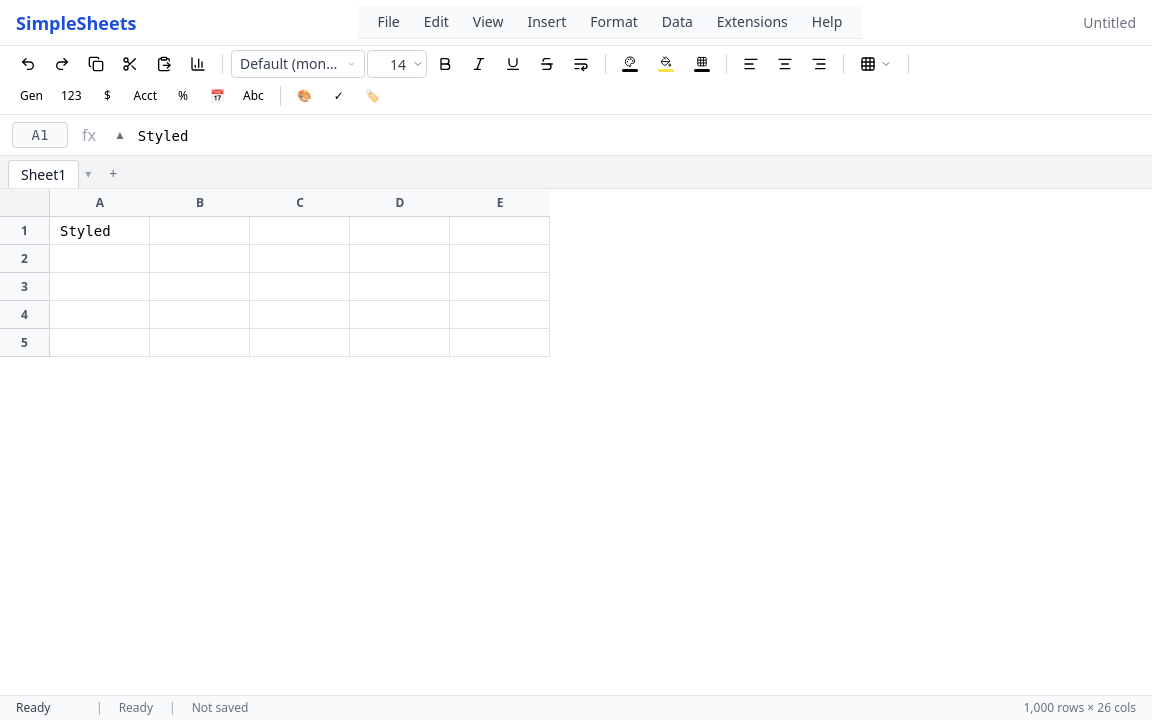
Test: App — Paste with Styles (Integration) › copy then paste completes without error for styled cells
Press the mouse on the element with class "grid-cell" showing "Styled" at [100, 231], box [50,217,150,245]
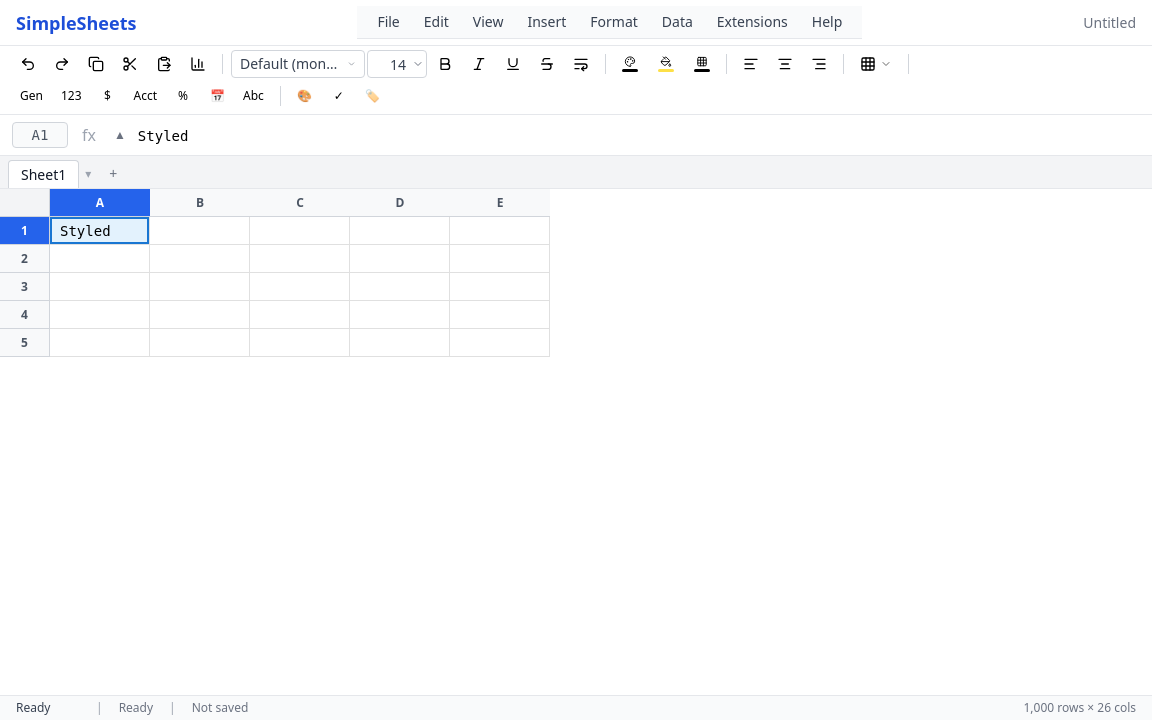
Replace the text in the field with placeholder "Enter a value or formula (e.g., =SUM(A1:A10))" with "CellA" at [639, 136], box [138,126,1140,146]
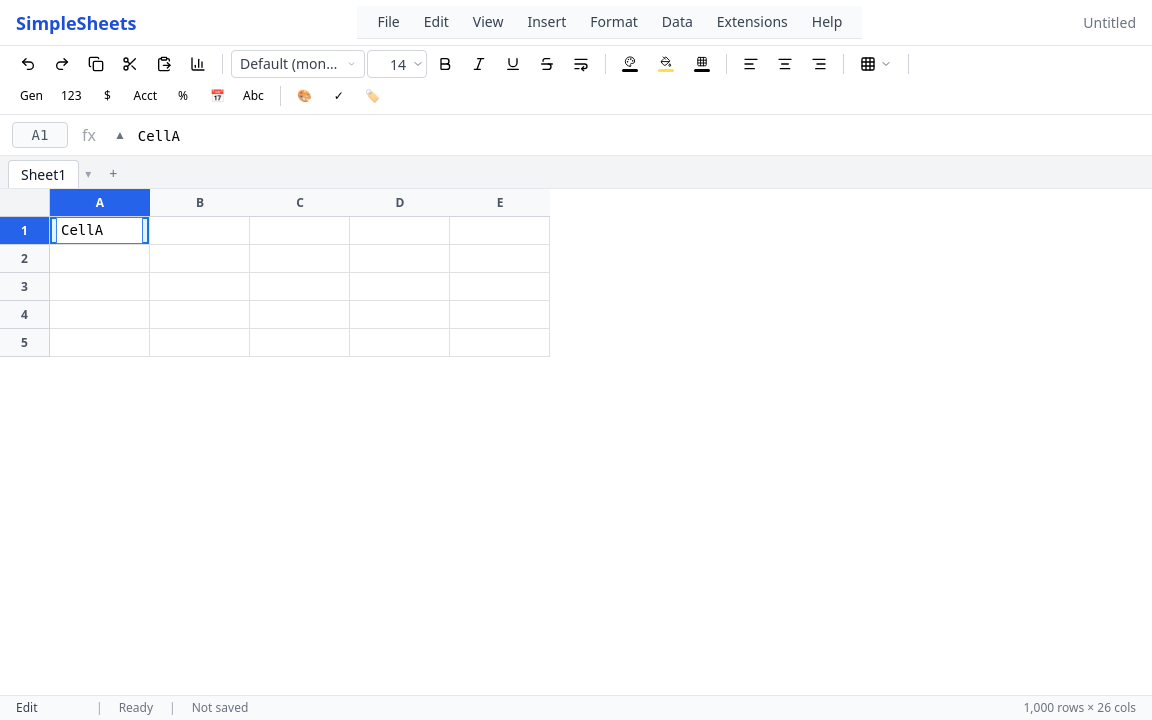
Press Enter in the 1st field with placeholder "Enter a value or formula (e.g., =SUM(A1:A10))", box [138,126,1140,146]
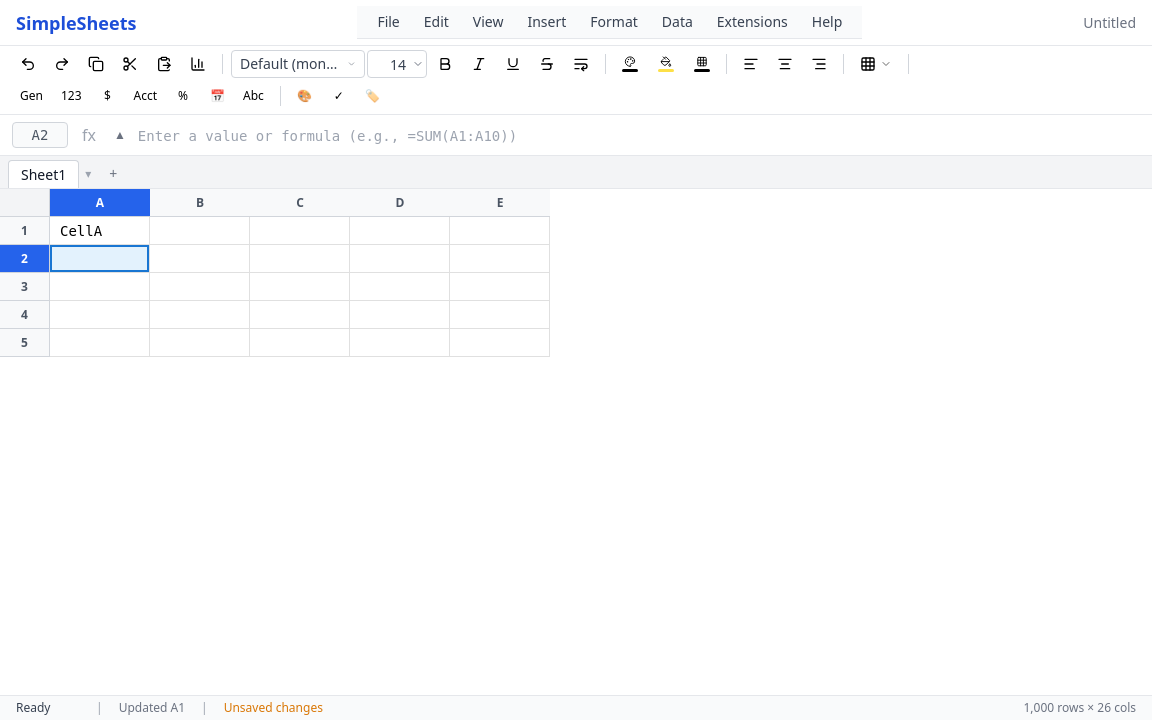
Press the mouse on the 2nd element with class "grid-cell" at [200, 231], box [150,217,250,245]
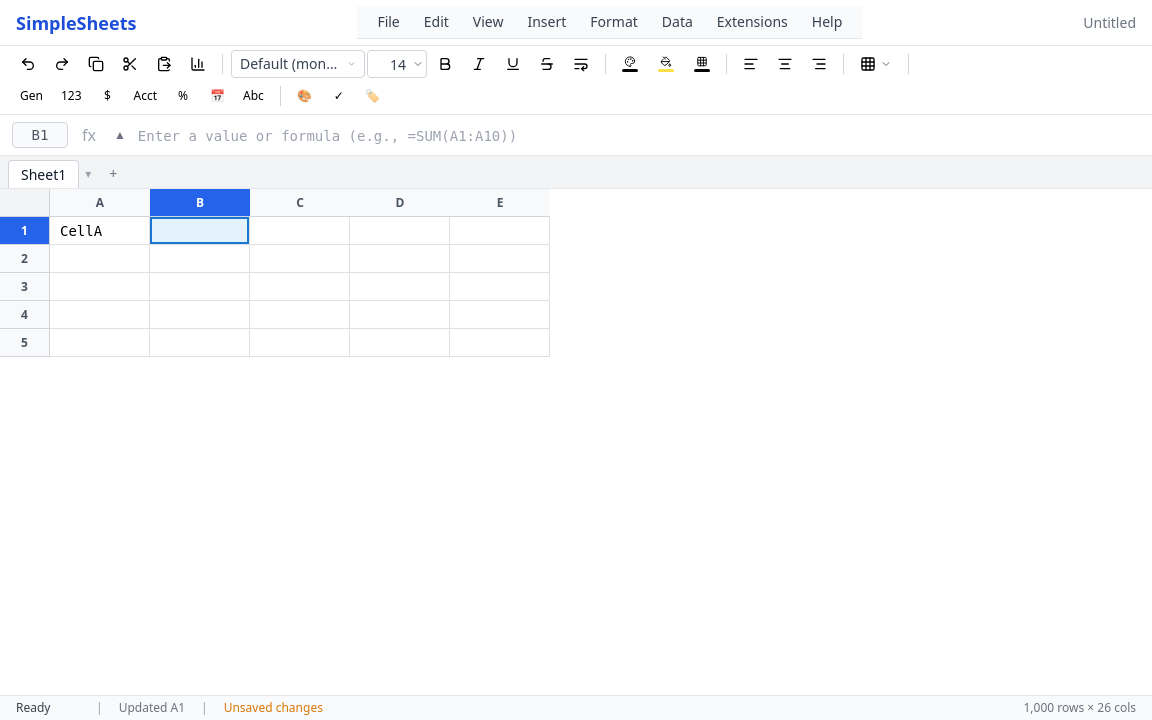
Type "CellB" into the field with placeholder "Enter a value or formula (e.g., =SUM(A1:A10))".
click(639, 136); type("CellB")  # box [138,126,1140,146]
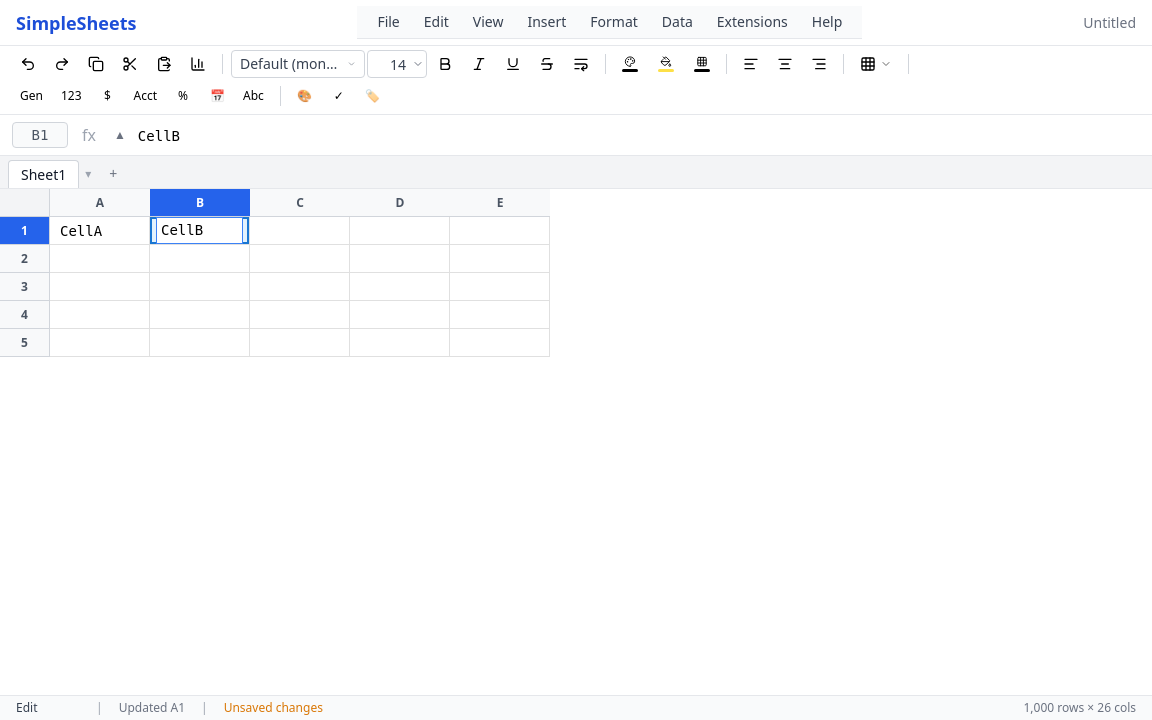
Press Enter in the 1st field with placeholder "Enter a value or formula (e.g., =SUM(A1:A10))", box [138,126,1140,146]
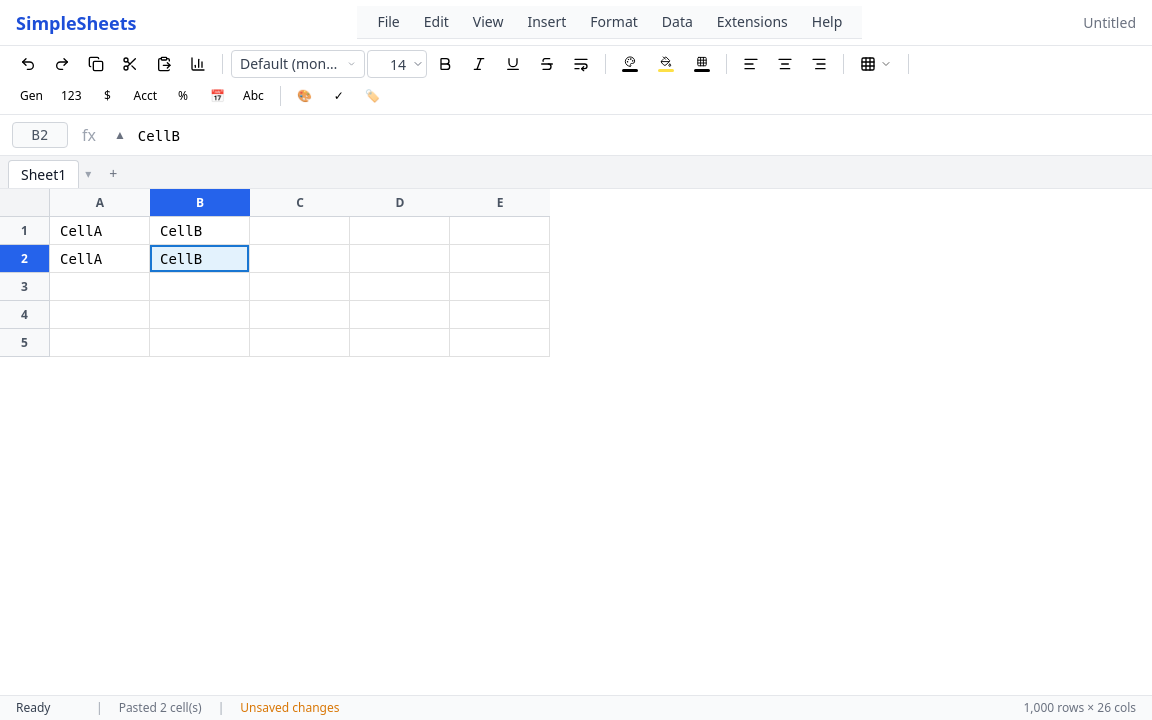
Check: the text "Pasted 2 cell(s)" is shown, box [119,700,202,716]
